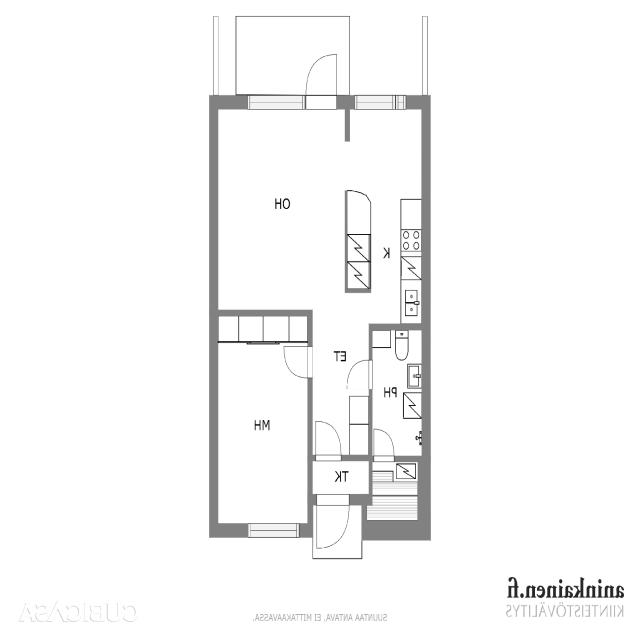door: (302, 49, 340, 109), (312, 494, 350, 552), (274, 344, 322, 376), (308, 422, 348, 455), (342, 358, 374, 391), (367, 428, 401, 456)
window: (333, 90, 429, 112), (227, 92, 321, 112), (229, 522, 318, 537)
zone: (215, 107, 428, 316), (211, 343, 314, 532), (371, 327, 425, 459), (368, 459, 426, 523), (311, 458, 369, 500)
